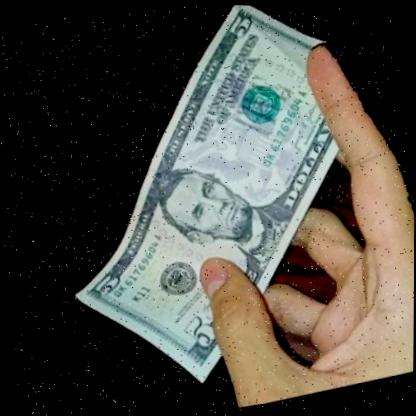five-front: (19, 0, 396, 406)
